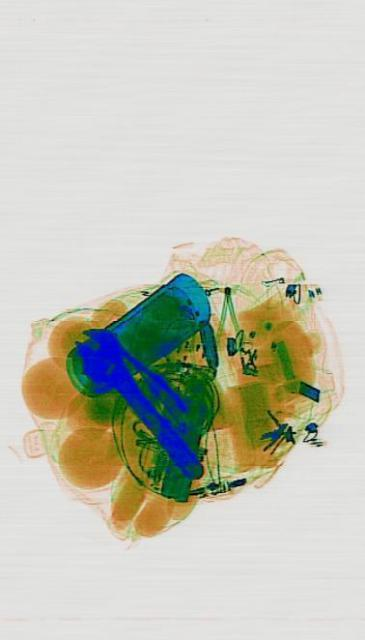Wrench: (66, 304, 211, 502)
